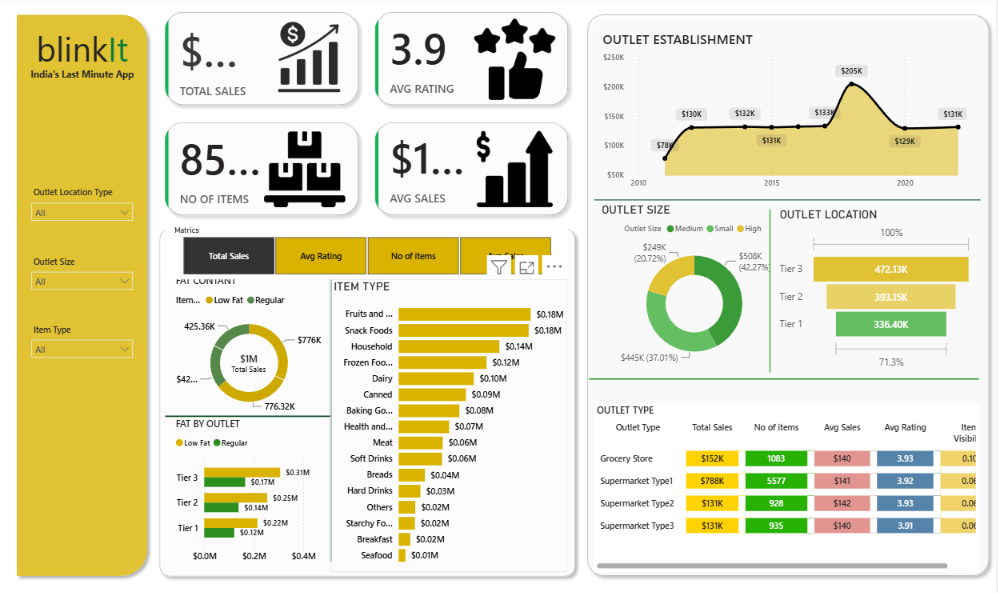

The dashboard page shown, as its layout file describes it:
{"tool":"powerbi","page":{"name":"Page 1","canvas":[1424,850],"ordinal":0},"visuals":[{"type":"shape","box":[15,13.3,205,820],"z":0},{"type":"textbox","box":[28.6,32.9,180,98.6],"z":1000},{"type":"textbox","box":[28.3,93.3,180,50],"z":2000},{"type":"cardVisual","fields":{"Data":["BlinkIT Grocery Data.Total Sales","BlinkIT Grocery Data.Avg Rating","BlinkIT Grocery Data.No of  items","BlinkIT Grocery Data.Avg Sales"]},"box":[220,1.7,611.7,325],"z":3000},{"type":"shape","box":[220,318.3,611.7,515],"z":4000},{"type":"donutChart","title":"FAT CONTANT","fields":{"Y":["BlinkIT Grocery Data.Total Sales","Sum(BlinkIT Grocery Data.Sales)"],"Category":["BlinkIT Grocery Data.Item Fat Content"]},"box":[246.7,393.3,220,208.3],"z":5000},{"type":"slicer","fields":{"Values":["Matrics.Matrics"]},"box":[236.7,318.3,575,81.7],"z":6000},{"type":"cardVisual","fields":{"Data":["BlinkIT Grocery Data.Total Sales"]},"box":[310,485,93.3,68.3],"z":7000},{"type":"clusteredBarChart","title":"FAT BY OUTLET","fields":{"Y":["BlinkIT Grocery Data.Total Sales"],"Category":["BlinkIT Grocery Data.Outlet Location Type"],"Series":["BlinkIT Grocery Data.Item Fat Content"]},"box":[246.7,596.7,220,216.7],"z":8000},{"type":"shape","box":[236.7,590,236.7,11.7],"z":9000},{"type":"shape","box":[466.7,400,13.3,403.3],"z":10000},{"type":"barChart","title":"ITEM TYPE","fields":{"Y":["BlinkIT Grocery Data.Total Sales"],"Category":["BlinkIT Grocery Data.Item Type"]},"box":[473.3,400,338.3,418.3],"z":11000},{"type":"shape","box":[831.7,13.3,591.7,820],"z":12000},{"type":"lineChart","title":"OUTLET ESTABLISHMENT","fields":{"Category":["BlinkIT Grocery Data.Outlet Establishment Year"],"Y":["BlinkIT Grocery Data.Total Sales"]},"box":[856.7,45,530,235],"z":13000},{"type":"shape","box":[850,280,551.7,13.3],"z":13001},{"type":"donutChart","title":"OUTLET SIZE","fields":{"Y":["BlinkIT Grocery Data.Total Sales"],"Category":["BlinkIT Grocery Data.Outlet Size"]},"box":[855,290,275,243.3],"z":13002},{"type":"funnel","title":"OUTLET LOCATION","fields":{"Category":["BlinkIT Grocery Data.Outlet Location Type"],"Y":["Sum(BlinkIT Grocery Data.Sales)"]},"box":[1110,296.7,285,236.7],"z":13003},{"type":"shape","box":[843.3,520,556.7,45],"z":13004},{"type":"shape","box":[1093.3,300,16.7,233.3],"z":13006},{"type":"pivotTable","title":"OUTLET TYPE","fields":{"Rows":["BlinkIT Grocery Data.Outlet Type"],"Values":["BlinkIT Grocery Data.Total Sales","BlinkIT Grocery Data.No of  items","BlinkIT Grocery Data.Avg Sales","BlinkIT Grocery Data.Avg Rating","Avg(BlinkIT Grocery Data.Item Visibility)"]},"box":[848.3,576.7,551.7,241.7],"z":13007},{"type":"slicer","fields":{"Values":["BlinkIT Grocery Data.Outlet Location Type"]},"box":[35,263.3,165,75],"z":13008},{"type":"slicer","fields":{"Values":["BlinkIT Grocery Data.Outlet Size"]},"box":[35,361.7,165,75],"z":13009},{"type":"slicer","fields":{"Values":["BlinkIT Grocery Data.Item Type"]},"box":[35,458.3,165,75],"z":13010}]}

Visuals, with their boxes in screenshot pixels (x1, y1, x2, y2), scaled from the page's 1424x850 canvas onto the 998x593 screenshot:
shape: left=11, top=9, right=154, bottom=581
textbox: left=20, top=23, right=146, bottom=92
textbox: left=20, top=65, right=146, bottom=100
cardVisual - BlinkIT Grocery Data.Total Sales x BlinkIT Grocery Data.Avg Rating: left=154, top=1, right=583, bottom=228
shape: left=154, top=222, right=583, bottom=581
"FAT CONTANT" donutChart: left=173, top=274, right=327, bottom=420
slicer - Matrics.Matrics: left=166, top=222, right=569, bottom=279
cardVisual - BlinkIT Grocery Data.Total Sales: left=217, top=338, right=283, bottom=386
"FAT BY OUTLET" clusteredBarChart: left=173, top=416, right=327, bottom=567
shape: left=166, top=412, right=332, bottom=420
shape: left=327, top=279, right=336, bottom=560
"ITEM TYPE" barChart: left=332, top=279, right=569, bottom=571
shape: left=583, top=9, right=997, bottom=581
"OUTLET ESTABLISHMENT" lineChart: left=600, top=31, right=972, bottom=195
shape: left=596, top=195, right=982, bottom=205
"OUTLET SIZE" donutChart: left=599, top=202, right=792, bottom=372
"OUTLET LOCATION" funnel: left=778, top=207, right=978, bottom=372
shape: left=591, top=363, right=981, bottom=394
shape: left=766, top=209, right=778, bottom=372
"OUTLET TYPE" pivotTable: left=595, top=402, right=981, bottom=571
slicer - BlinkIT Grocery Data.Outlet Location Type: left=25, top=184, right=140, bottom=236
slicer - BlinkIT Grocery Data.Outlet Size: left=25, top=252, right=140, bottom=305
slicer - BlinkIT Grocery Data.Item Type: left=25, top=320, right=140, bottom=372
